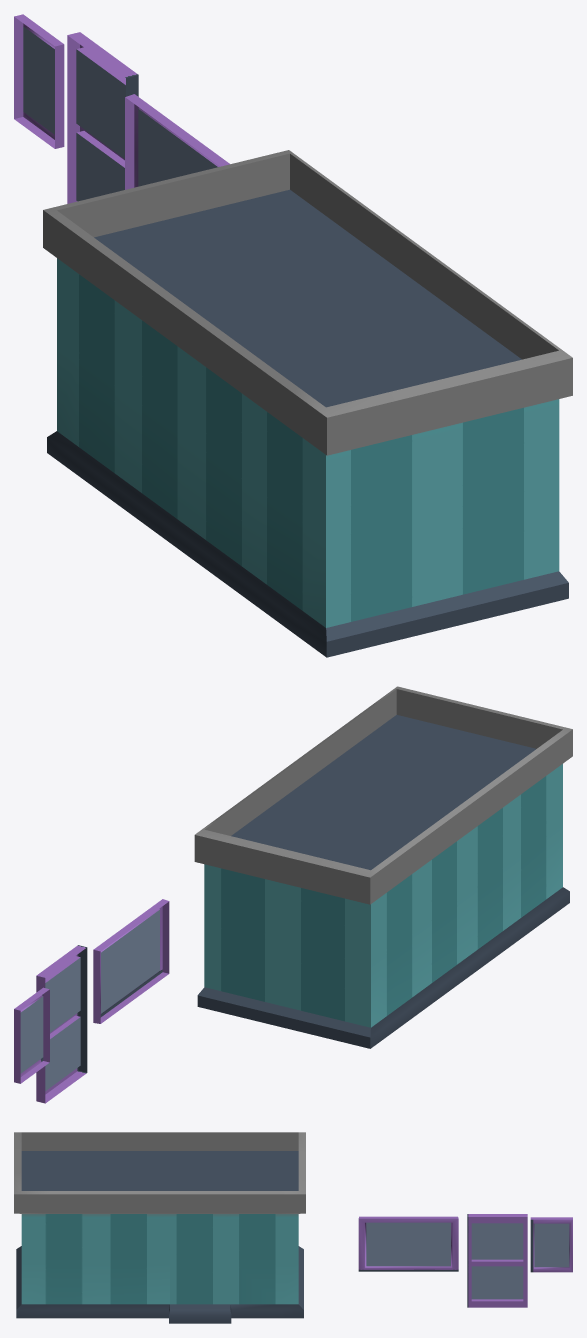
The model's file is BldgKit.fbx.
The picture shows the model from 3 angles, top to bottom: view 1: azimuth 30°, elevation 25°; view 2: azimuth 150°, elevation 25°; view 3: azimuth 270°, elevation 25°; orthographic projection. The views are drawn at different scales.
Parts seen in each view (by area): view 1: Building, doorglasstop, doorframe, windowlargeglass, smallwindowframe, smallwindowglass, windowlargeframe, doorglassbtm; view 2: Building, windowlargeglass, doorframe, windowlargeframe, doorglasstop, doorglassbtm, smallwindowframe, smallwindowglass; view 3: Building, windowlargeglass, doorframe, windowlargeframe, doorglasstop, doorglassbtm, smallwindowglass, Step, smallwindowframe.
Part boxes in pixels (x1,y1,x2,y2): Building: [43, 150, 572, 657]; doorglasstop: [76, 49, 125, 158]; doorframe: [67, 32, 138, 203]; windowlargeglass: [138, 109, 217, 186]; smallwindowframe: [14, 14, 64, 148]; smallwindowglass: [23, 26, 54, 134]; windowlargeframe: [125, 94, 229, 189]; doorglassbtm: [76, 133, 124, 201]; Building: [194, 686, 572, 1048]; windowlargeglass: [101, 910, 159, 1013]; doorframe: [36, 945, 87, 1103]; windowlargeframe: [93, 899, 169, 1023]; doorglasstop: [45, 957, 80, 1032]; doorglassbtm: [45, 1017, 80, 1090]; smallwindowframe: [14, 987, 49, 1083]; smallwindowglass: [20, 996, 43, 1073]; Building: [14, 1132, 305, 1318]; windowlargeglass: [366, 1222, 450, 1266]; doorframe: [467, 1214, 527, 1307]; windowlargeframe: [358, 1216, 458, 1271]; doorglasstop: [471, 1223, 523, 1259]; doorglassbtm: [471, 1266, 523, 1299]; smallwindowglass: [534, 1223, 569, 1267]; Step: [169, 1304, 231, 1323]; smallwindowframe: [530, 1217, 572, 1272].
Size of the model in its own units: 1.14 by 1.01 by 4.04.
